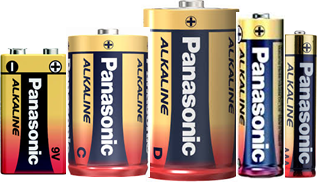Battery: (142, 1, 241, 182), (66, 28, 149, 178), (1, 42, 68, 176), (235, 9, 286, 178), (283, 29, 318, 179)
